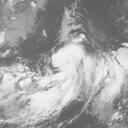cyclone: (47, 42, 99, 91)
